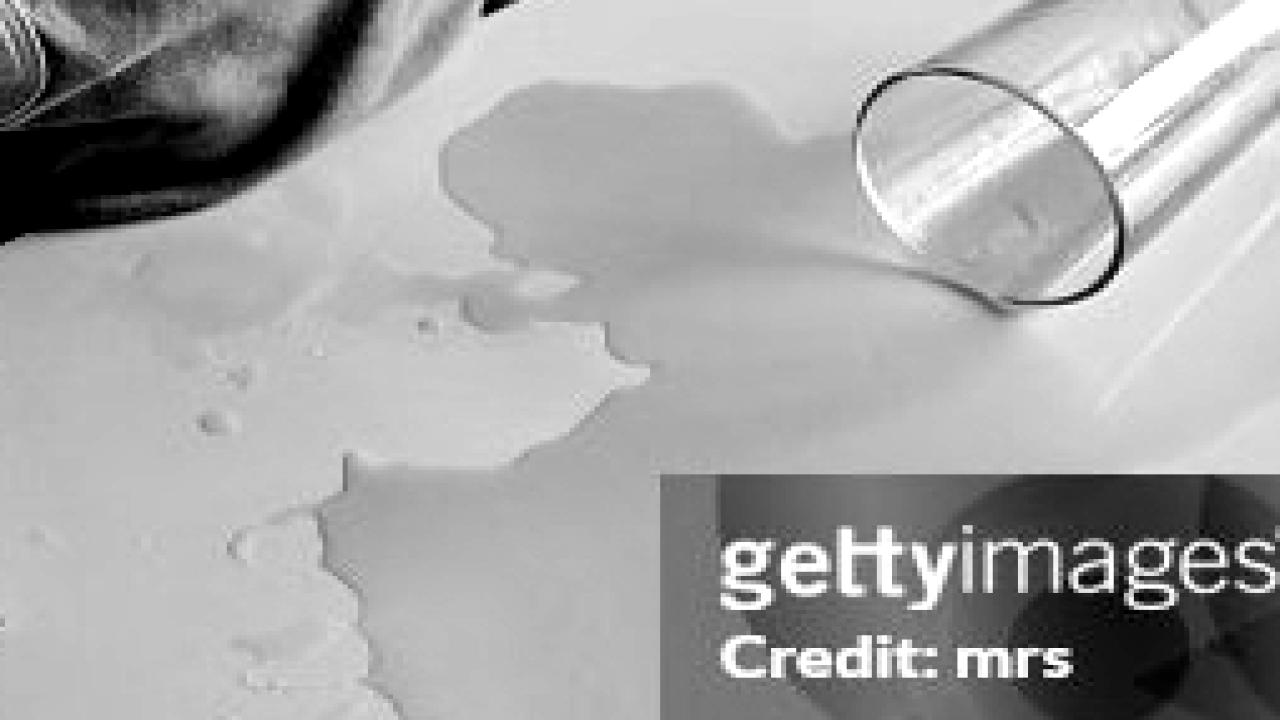Water Stains: (861, 313, 1280, 453)
drinks Stains: (85, 286, 561, 597), (459, 99, 811, 413)
